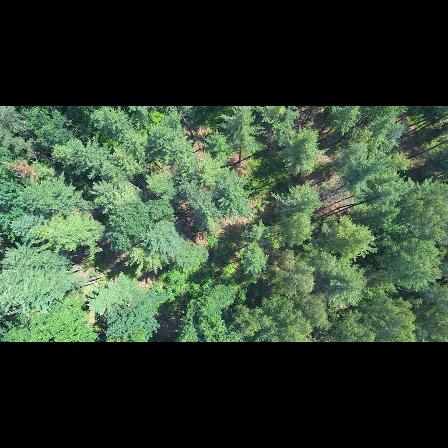Dead: (315, 176, 352, 202)
